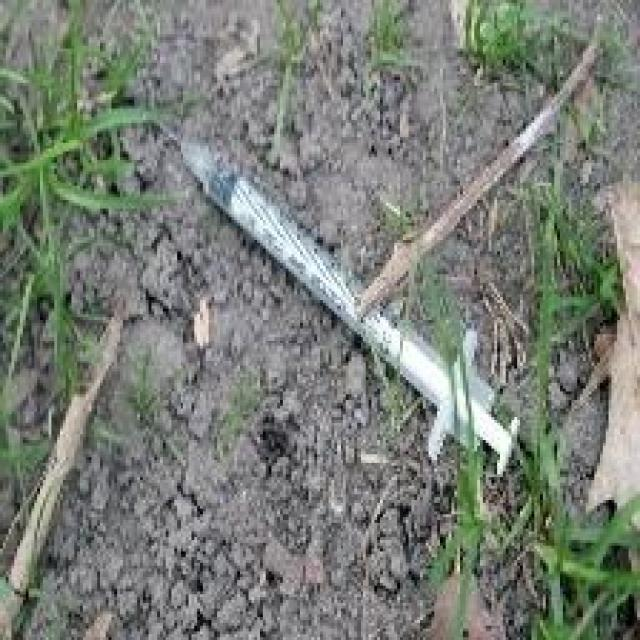syringe: (154, 71, 535, 524)
